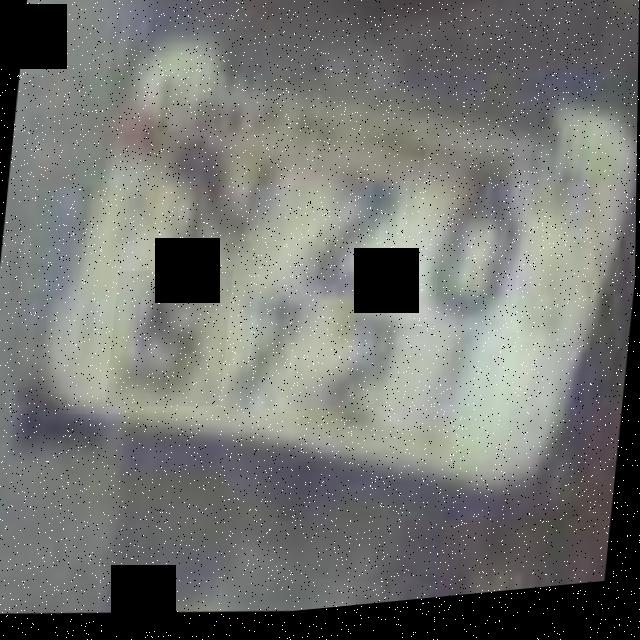1: (401, 294, 507, 454)
5: (106, 265, 234, 419)
D: (409, 141, 534, 339)
N: (149, 129, 276, 294)
Z: (274, 141, 422, 323)
